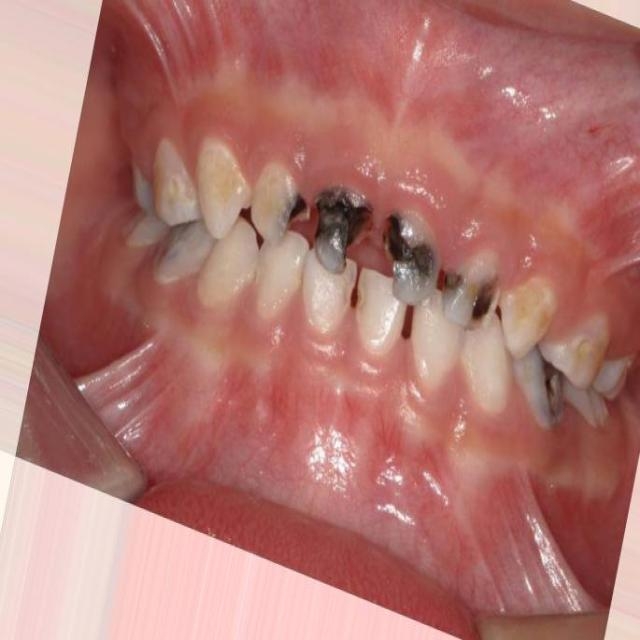caries: (308, 172, 373, 282), (372, 203, 441, 301), (191, 137, 254, 236), (443, 234, 500, 333), (250, 151, 304, 251), (148, 134, 203, 220), (532, 346, 581, 433), (507, 275, 561, 352), (153, 213, 210, 285), (569, 304, 615, 392), (338, 261, 373, 341)
